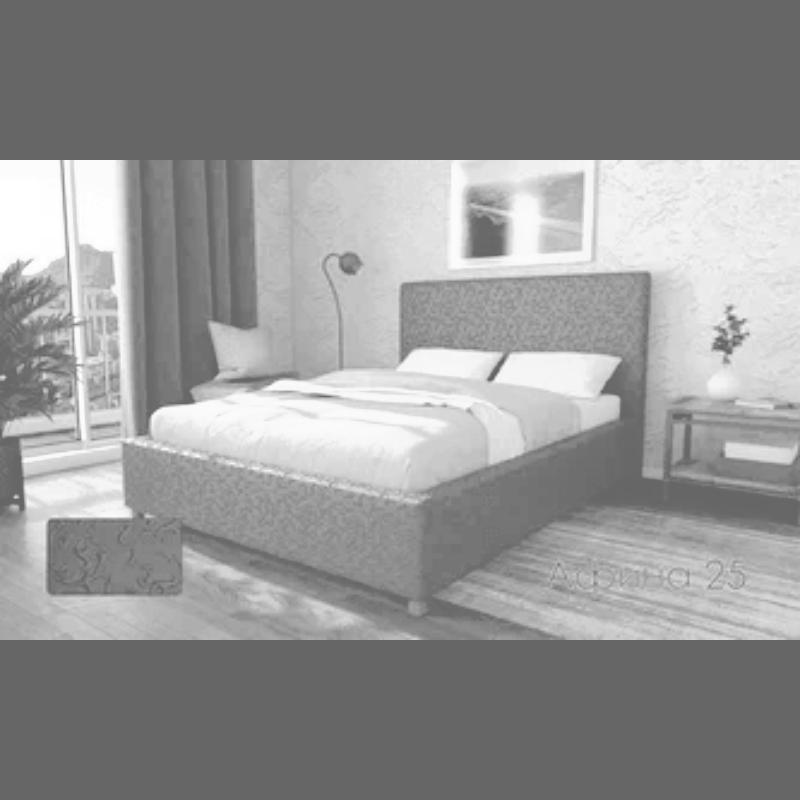pillow: (493, 348, 622, 404), (396, 347, 504, 382)
